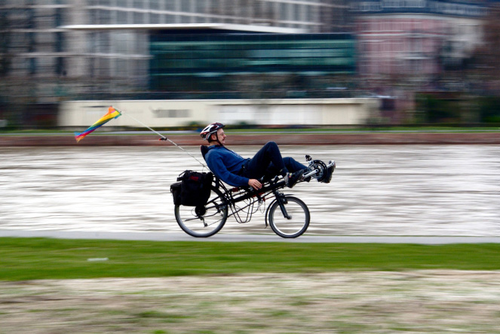bikerider: (104, 102, 346, 251)
